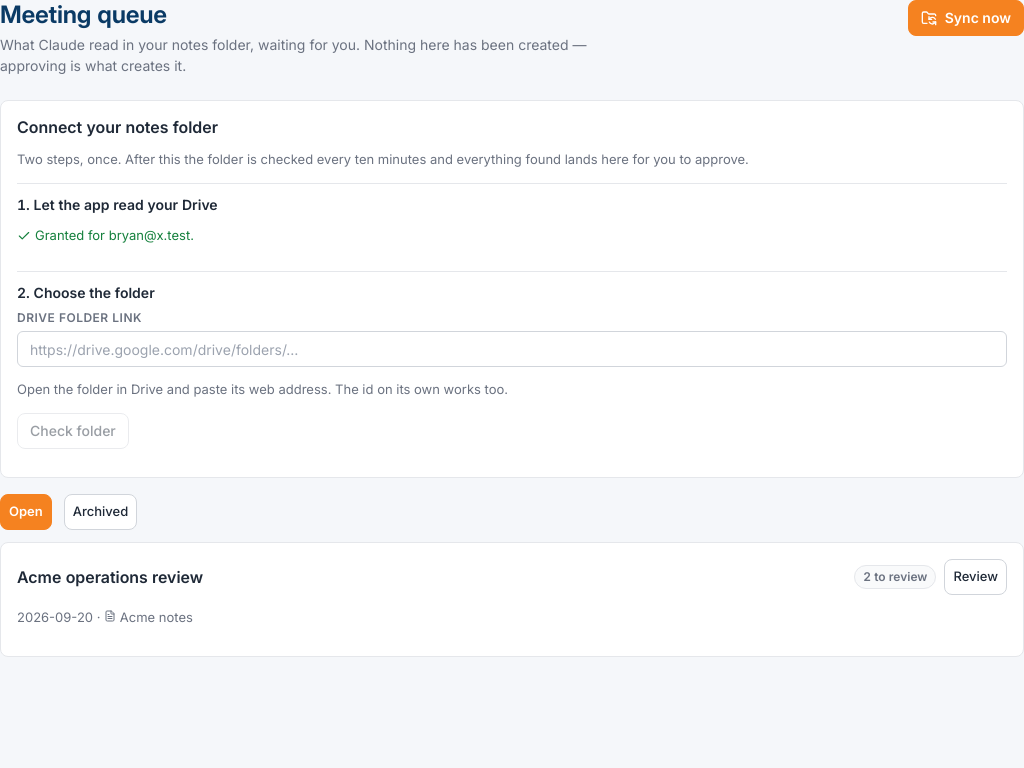
Test: connecting the notes folder › checks a pasted Drive URL and saves nothing until it is confirmed
Type "https://drive.google.com/drive/folders/1AbC?usp=sharing" into the field named "Drive folder link".
click(512, 349); type("https://drive.google.com/drive/folders/1AbC?usp=sharing")  # box [17,331,1007,367]
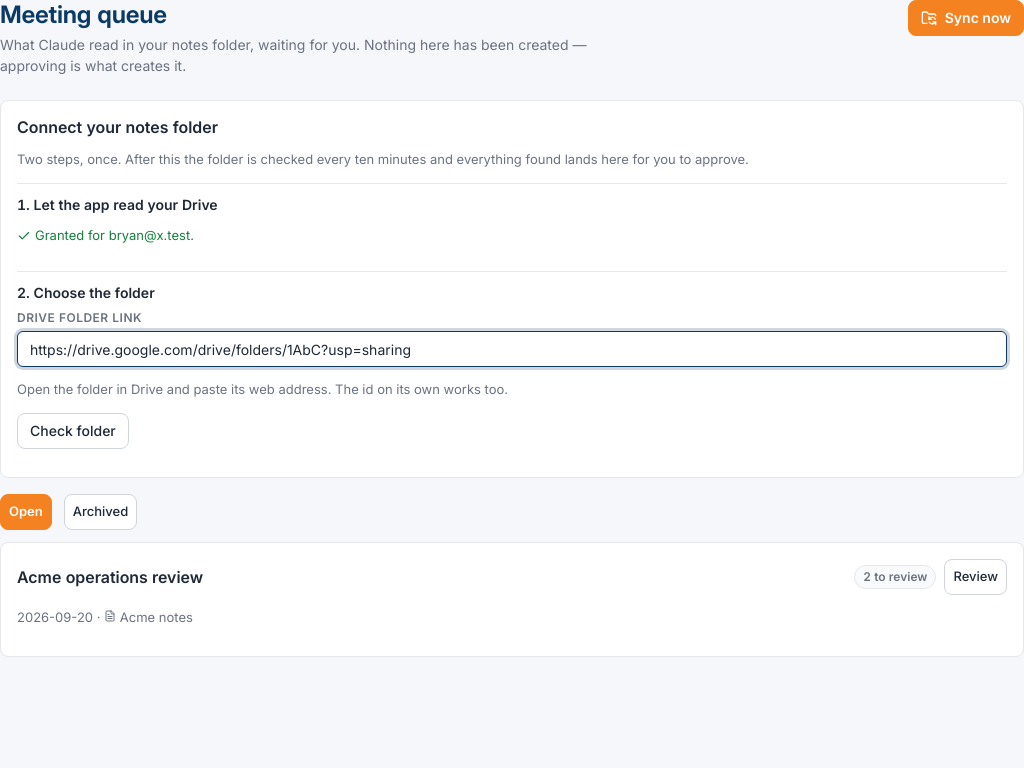
Click the button "Check folder".
click(73, 430)  # box [17,412,129,448]
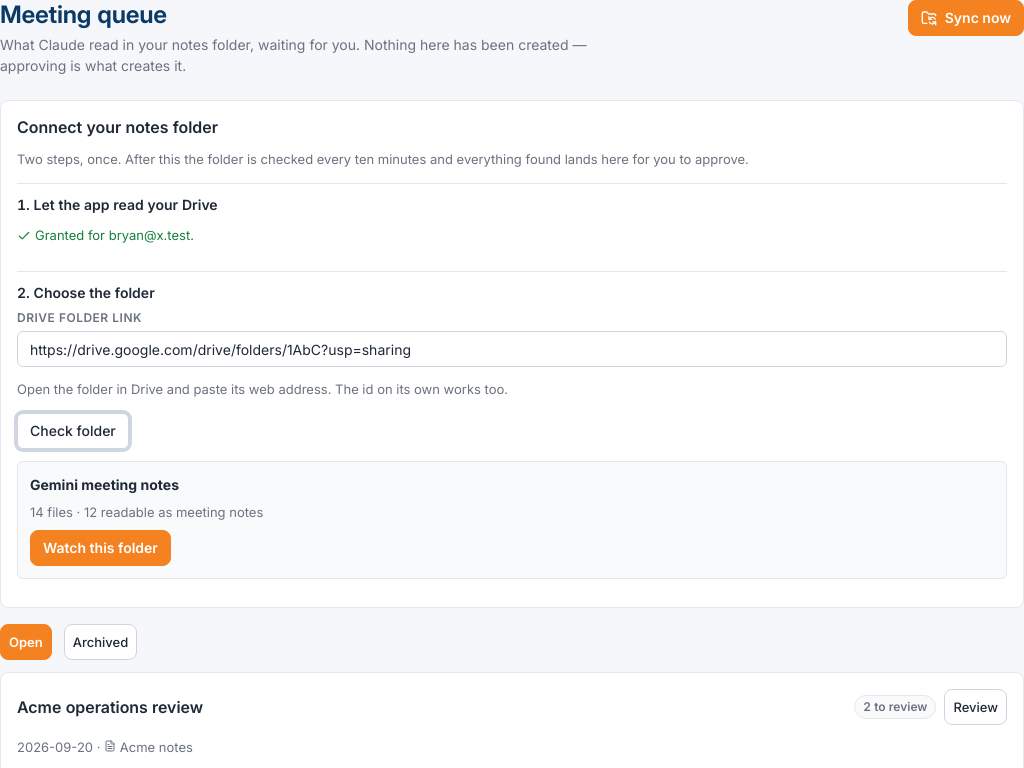
Expected: the text "Gemini meeting notes" is shown, [30,476,179,492]
Expected: the text "14 files · 12 readable as meeting notes" is shown, [30,504,263,520]
Click the button "Watch this folder".
click(100, 548)  # box [30,530,171,566]
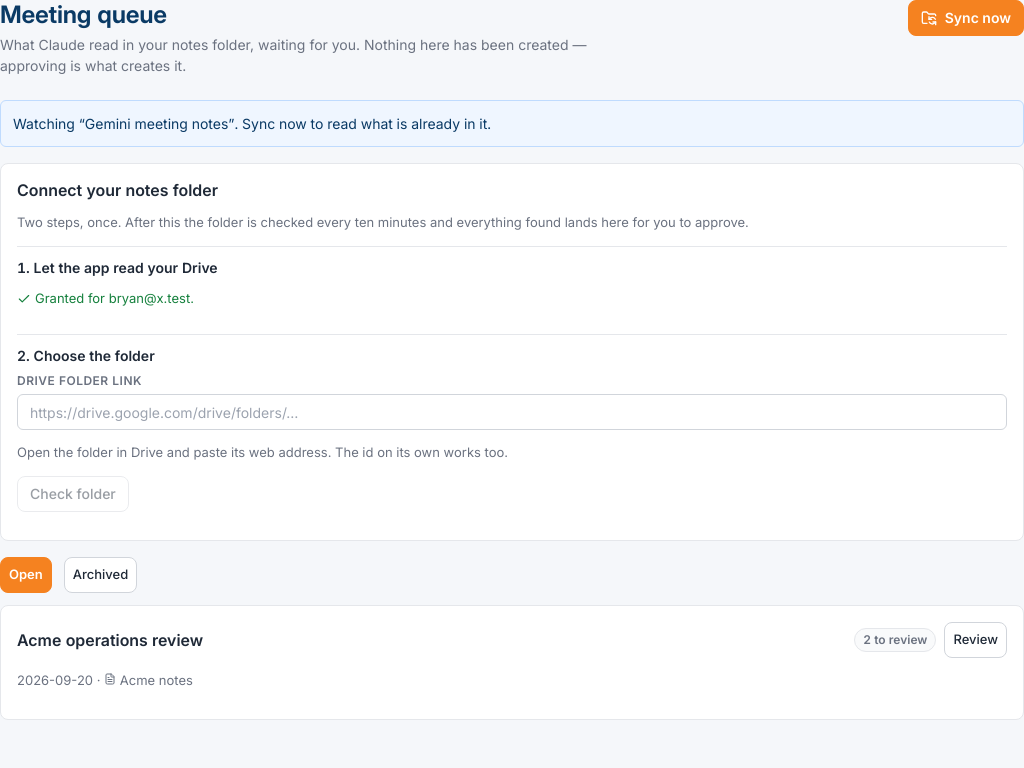
Expected: the text "Watching “Gemini meeting notes”" is shown, [13,115,491,132]
